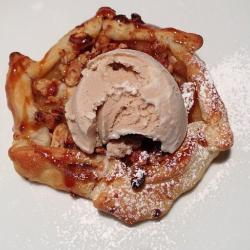apple_pie: (4, 7, 243, 228)
icecream: (58, 47, 196, 175)
